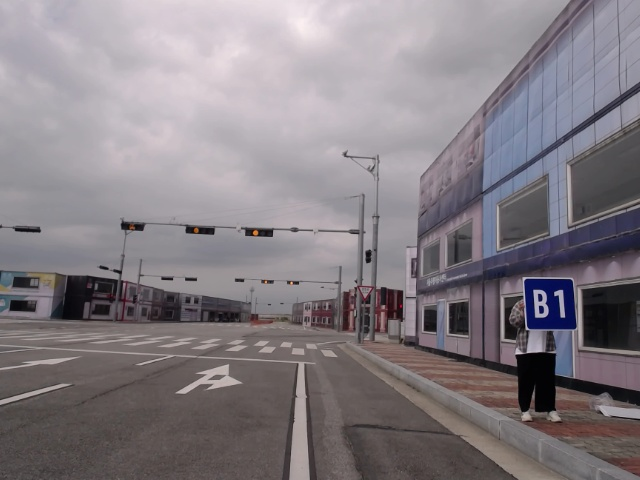delivery_b1: (523, 277, 578, 330)
orange_4: (185, 225, 215, 235), (245, 228, 274, 237), (287, 280, 299, 285), (261, 279, 274, 283)
